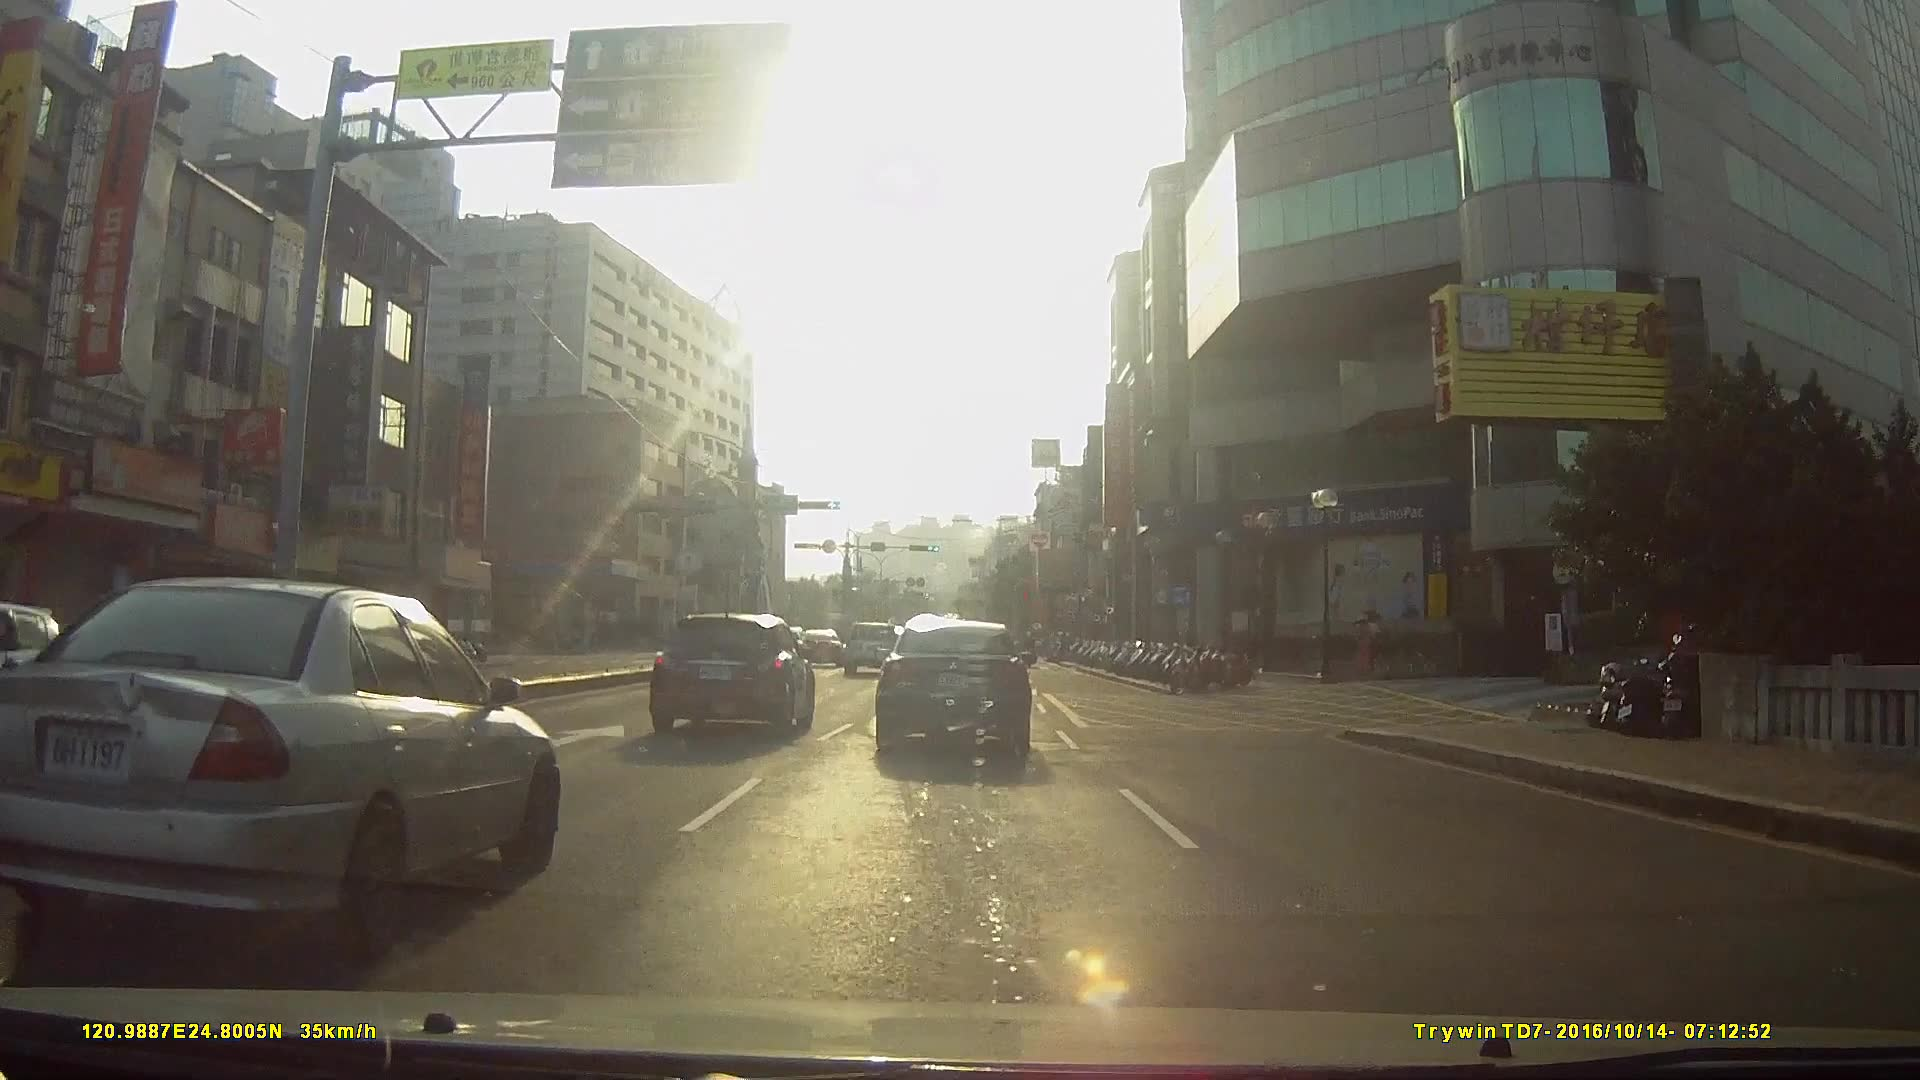pedestrian: (1345, 596, 1379, 681)
vehicle: (0, 569, 554, 959), (874, 609, 1034, 756), (646, 605, 815, 736), (839, 617, 900, 677), (794, 624, 844, 664)
